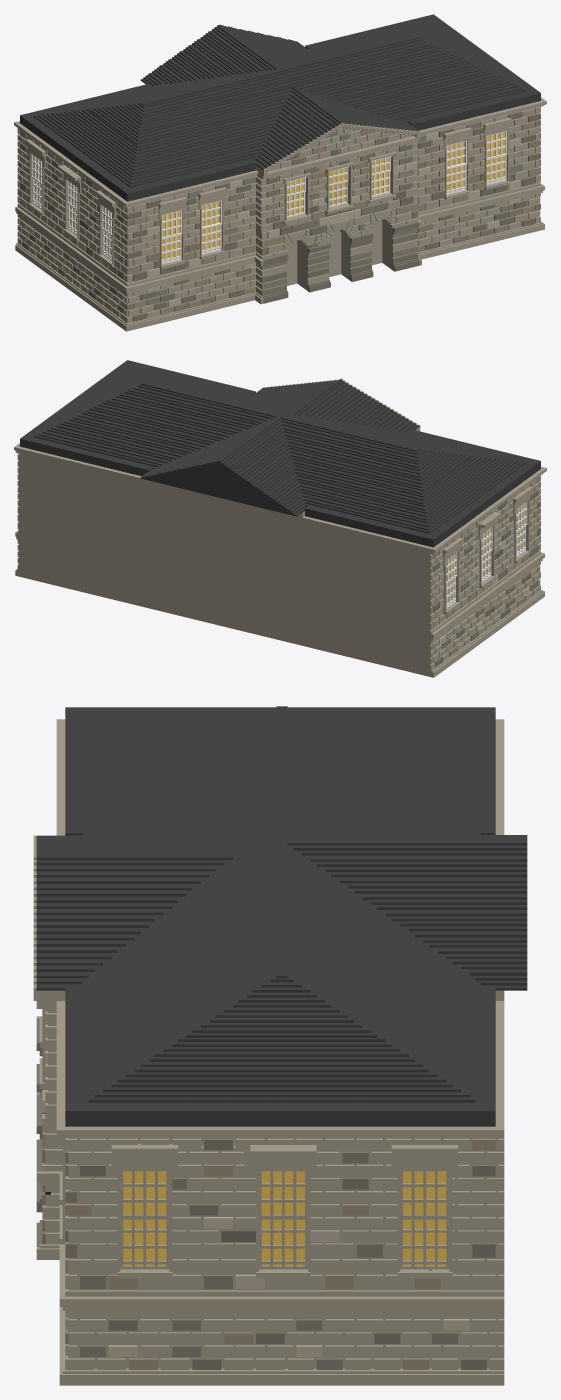
File: shiremodel.glb
3 views of the same model, one above another, from view 1: azimuth 30°, elevation 25°; view 2: azimuth 150°, elevation 25°; view 3: azimuth 270°, elevation 25° (orthographic). The views are drawn at different scales.
Visible parts, largest first — view 1: Untitled.004; view 2: Untitled.004; view 3: Untitled.004.
Part boxes in pixels (bbox=[...]): Untitled.004: bbox=[14, 14, 546, 331]; Untitled.004: bbox=[14, 360, 546, 677]; Untitled.004: bbox=[33, 706, 527, 1385].
Bounding box in the file's own units: 34.1 × 13 × 17.1.
6 materials, 6 textured.
